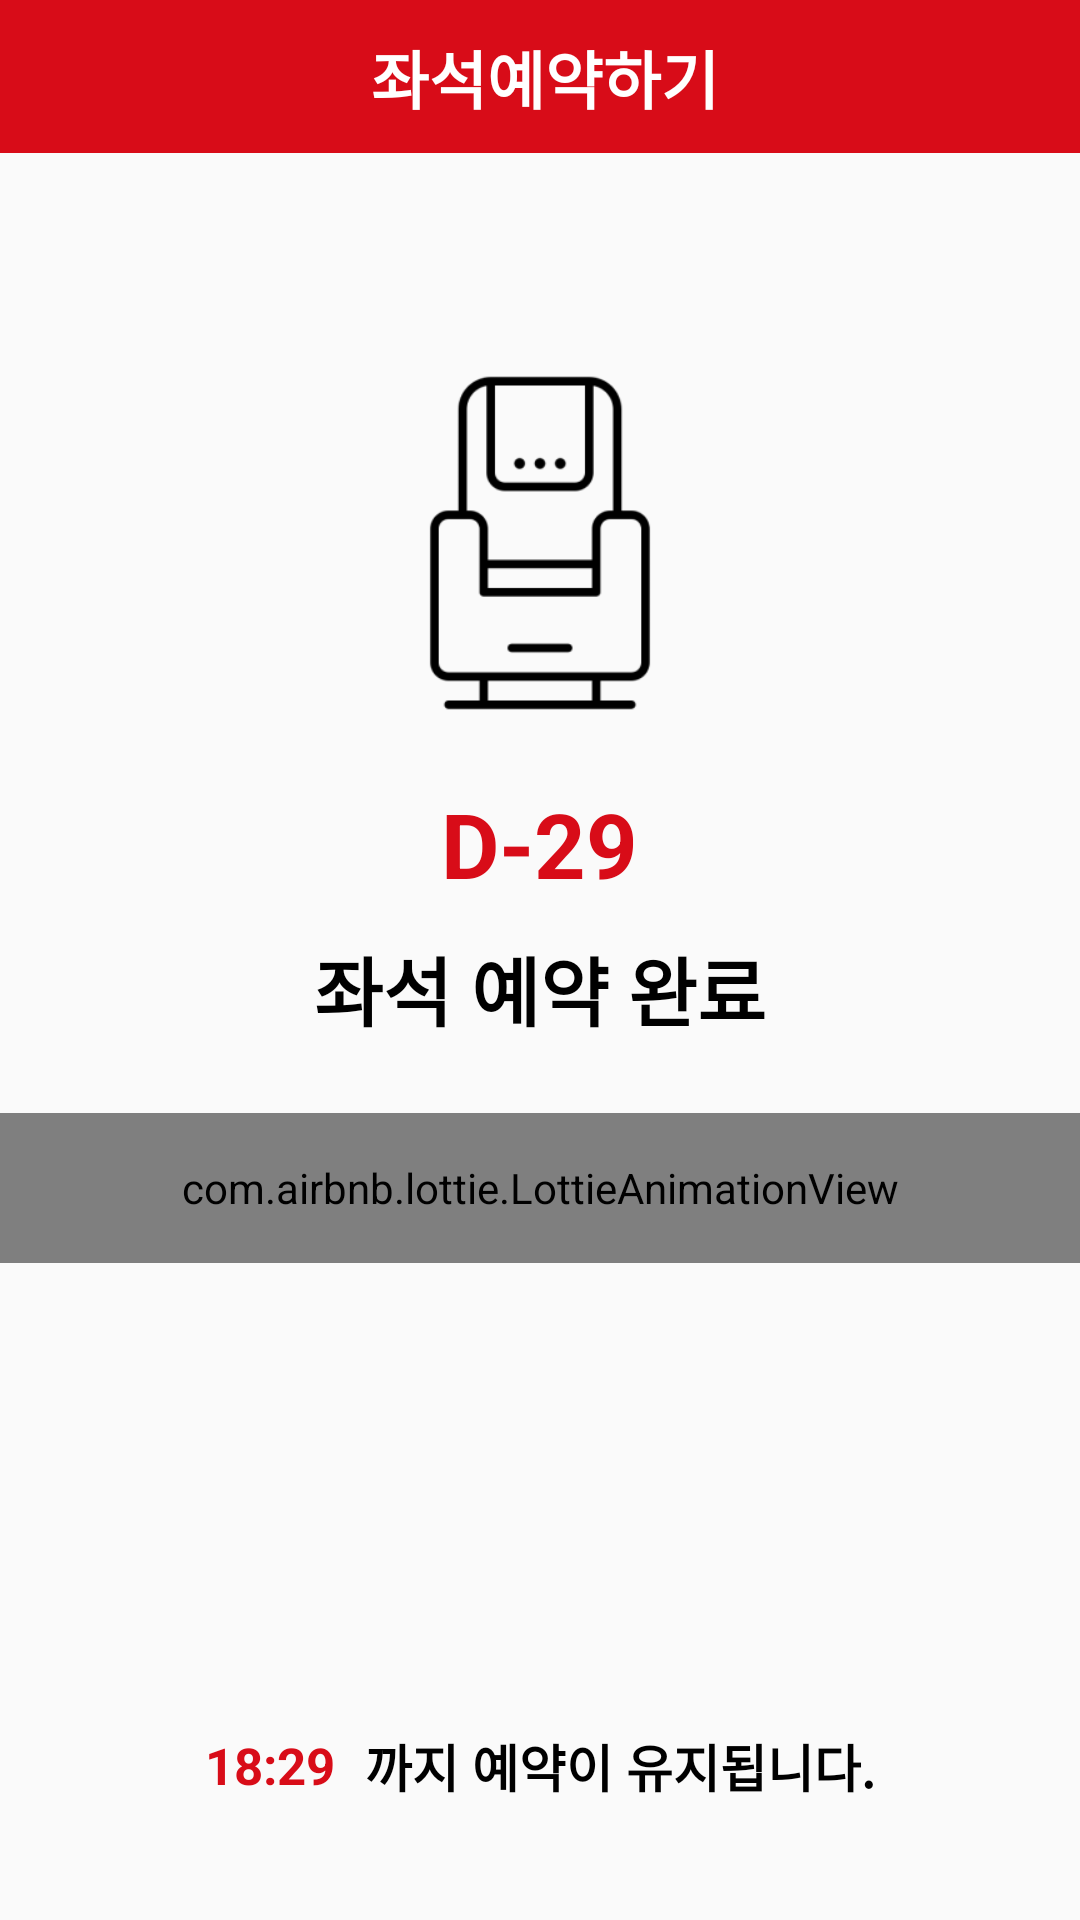

Icons on this 1080x1920 Android screen, each with the point to tap as (x=x, y=y):
seat: (x=540, y=543)
